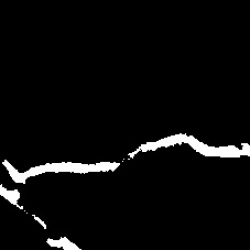crack: (3, 160, 120, 184), (131, 134, 248, 157), (0, 186, 24, 211), (45, 236, 78, 249), (33, 214, 45, 227)
